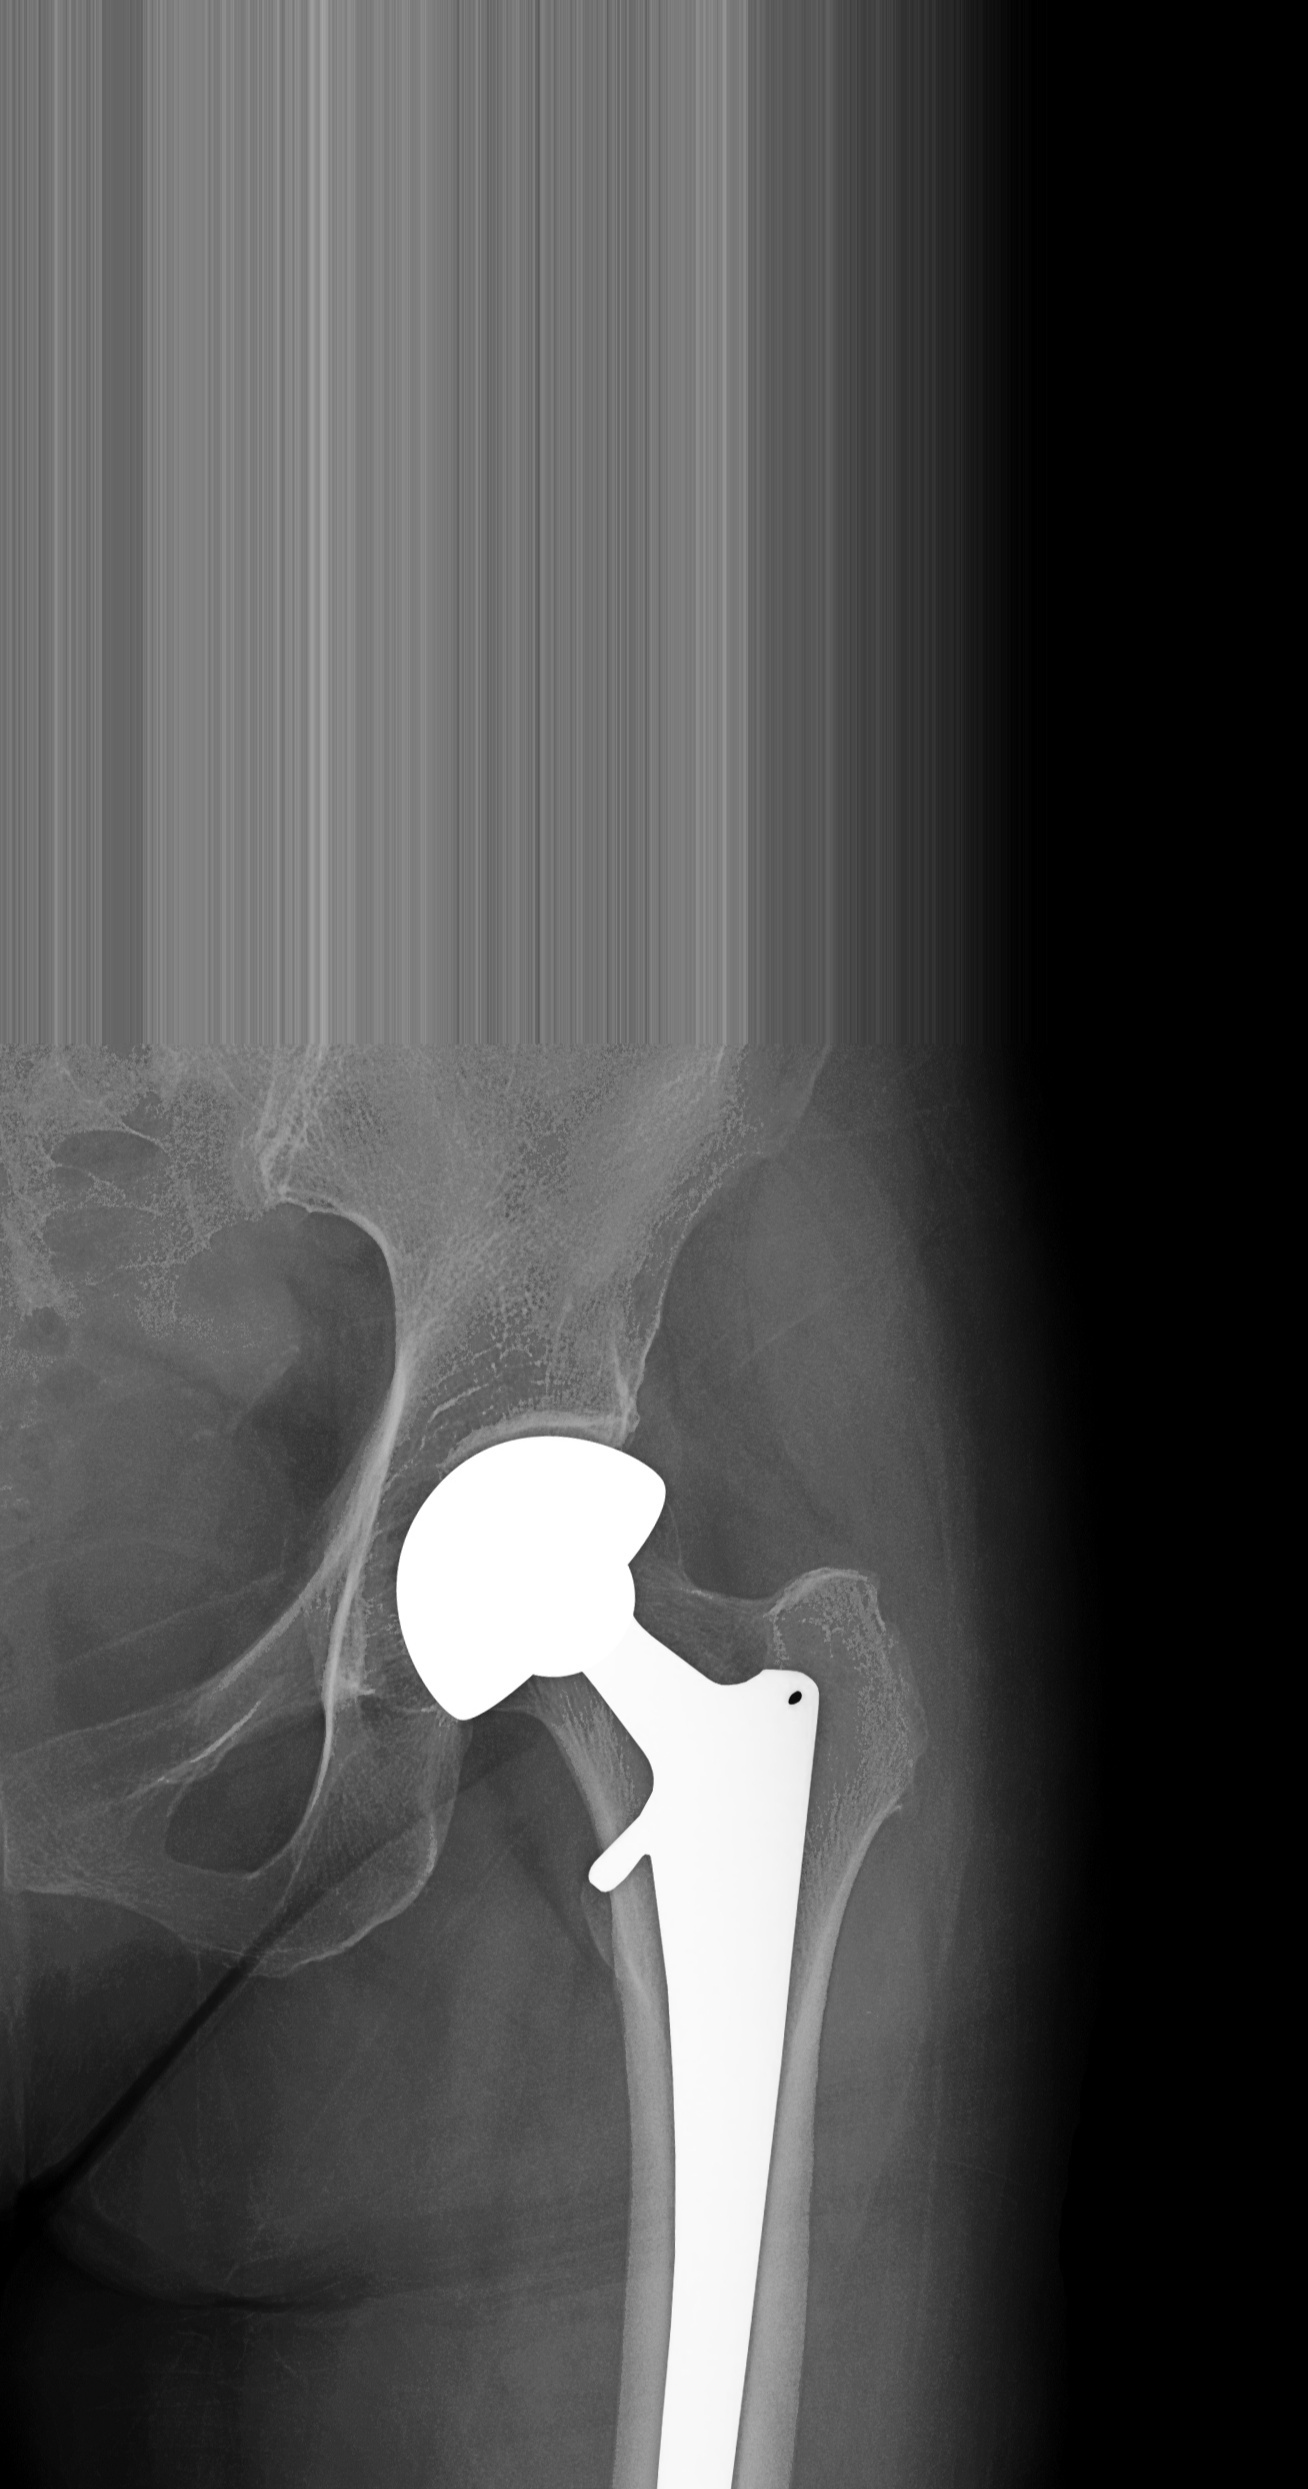Hip - Bias - Zimmer: (369, 1421, 837, 2489)
